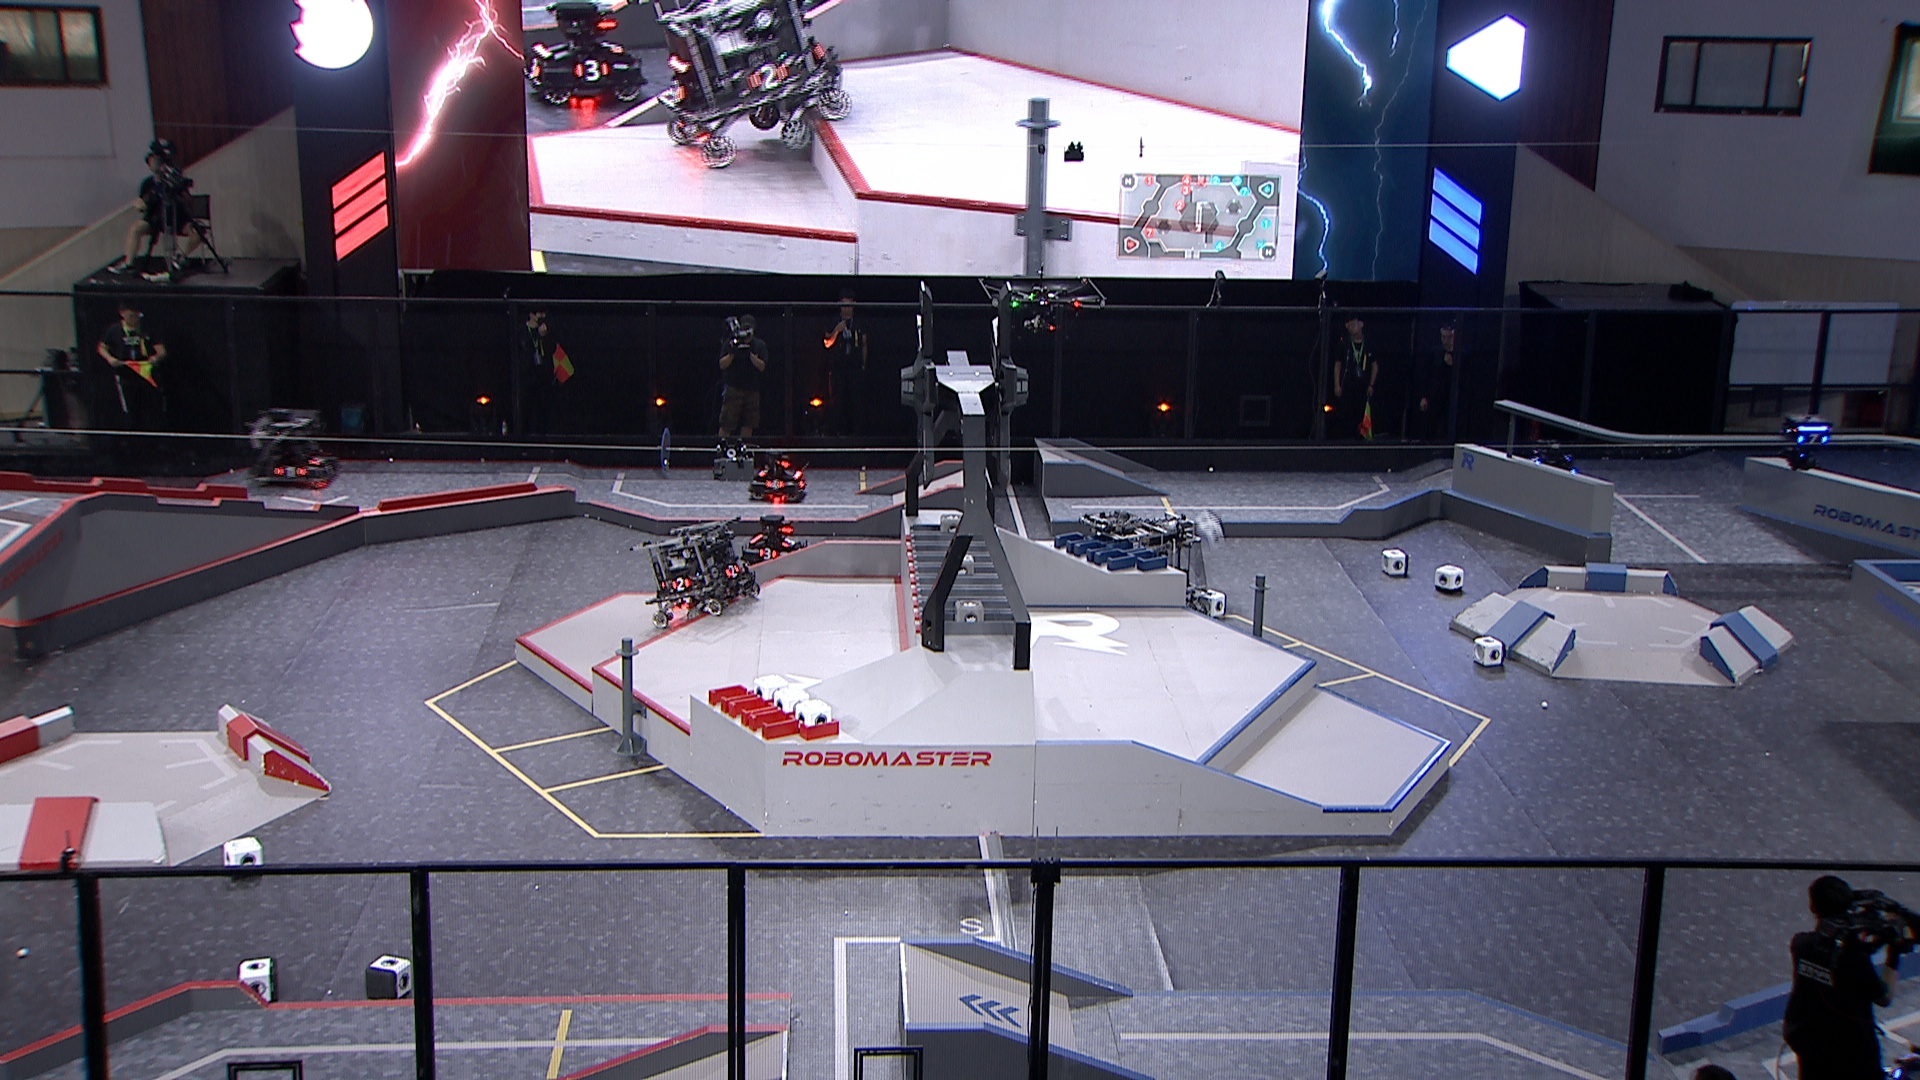armor: (273, 463, 309, 480), (1793, 433, 1830, 447), (669, 575, 694, 593), (723, 562, 741, 580), (306, 454, 327, 469), (757, 546, 779, 560), (778, 535, 798, 550), (764, 477, 785, 491)
car: (1079, 506, 1215, 633), (628, 520, 761, 632), (248, 406, 343, 491), (742, 512, 806, 564), (1523, 439, 1581, 493), (746, 454, 808, 504)
ignore: (524, 0, 650, 105)
watcher: (1779, 411, 1832, 473)
